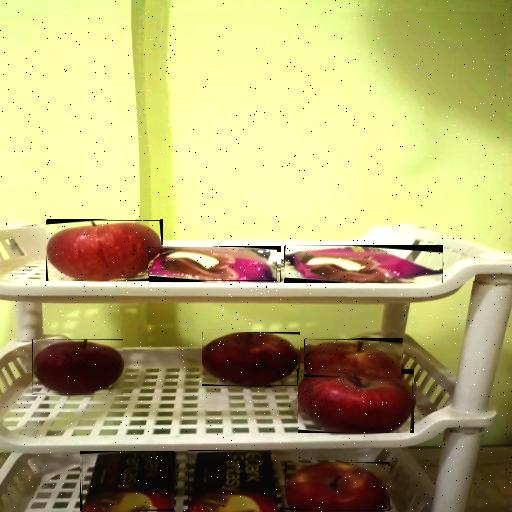Apple: (298, 369, 413, 433), (47, 221, 162, 281), (203, 332, 299, 386), (286, 462, 388, 511), (33, 340, 123, 394), (305, 340, 402, 377)
Choco Fills: (189, 450, 278, 512), (84, 451, 173, 511)
Choco Pie: (285, 246, 443, 282), (149, 247, 277, 281)
